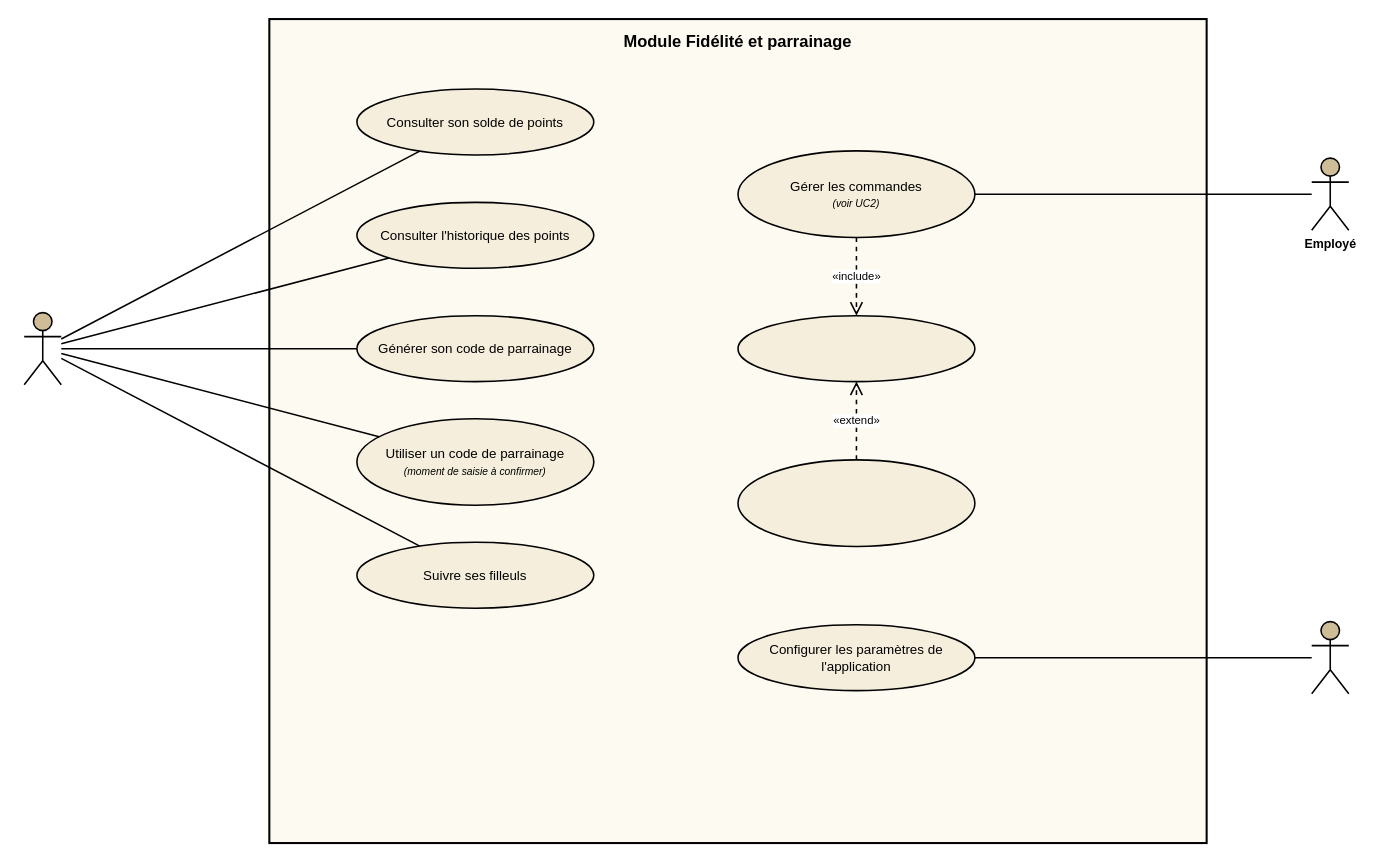
Some shapes in this 1392 by 861 pixel diagram are drawn without their labels. Here are the shapes that lost their labels. From the top down, the centre of each, then its label:
At (42,348): "Étudiant".
At (856,348): "Attribuer les points de fidélité".
At (856,503): "Récompenser le parrain (1ʳᵉ commande du filleul uniquement)".
At (1329,657): "Administrateur".
